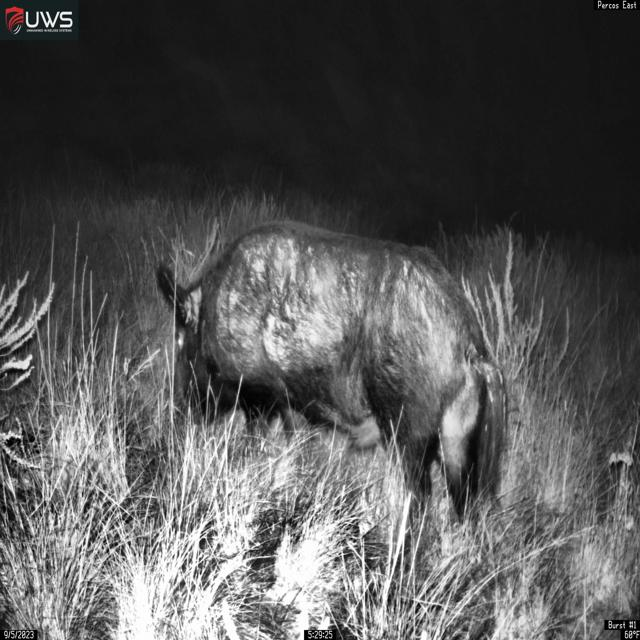pig: (156, 220, 512, 553)
